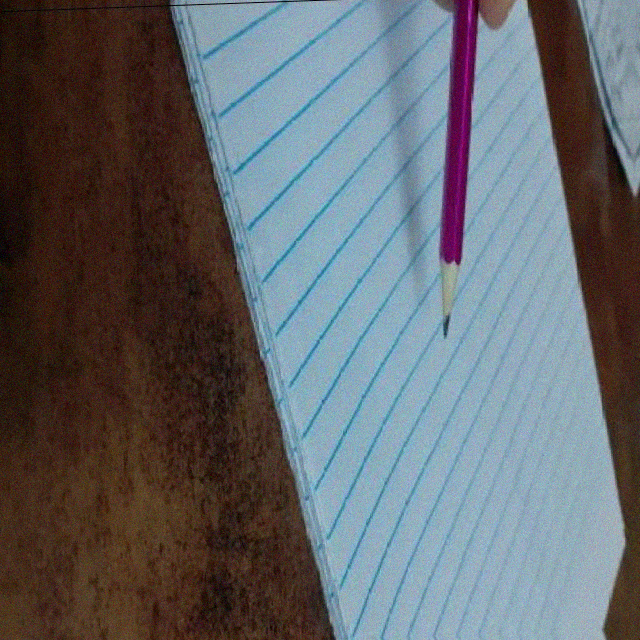pencil: (433, 260, 468, 340)
